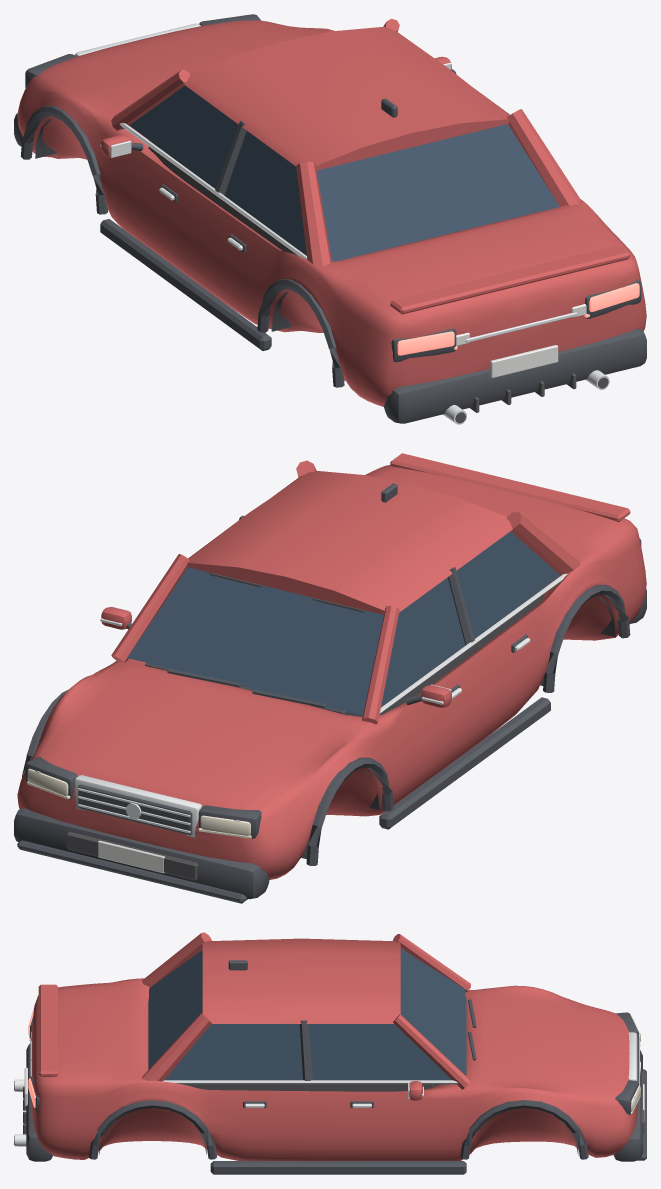
Rendered from Car_Sedan.fbx.
The picture shows the model from 3 angles, top to bottom: view 1: azimuth 30°, elevation 25°; view 2: azimuth 150°, elevation 25°; view 3: azimuth 270°, elevation 25°; orthographic projection. The views are drawn at different scales.
Visible parts, largest first — view 1: Car_Sedan, Car_Taillights; view 2: Car_Sedan, Car_Headlights; view 3: Car_Sedan.
Boxes of the visible parts, x1,y1,x2,y2 form: Car_Sedan: (14, 14, 646, 424); Car_Taillights: (397, 283, 639, 355); Car_Sedan: (14, 453, 646, 903); Car_Headlights: (27, 768, 251, 838); Car_Sedan: (14, 932, 646, 1174).
Bounding box in the file's own units: 2.28 × 1.27 × 4.6.
